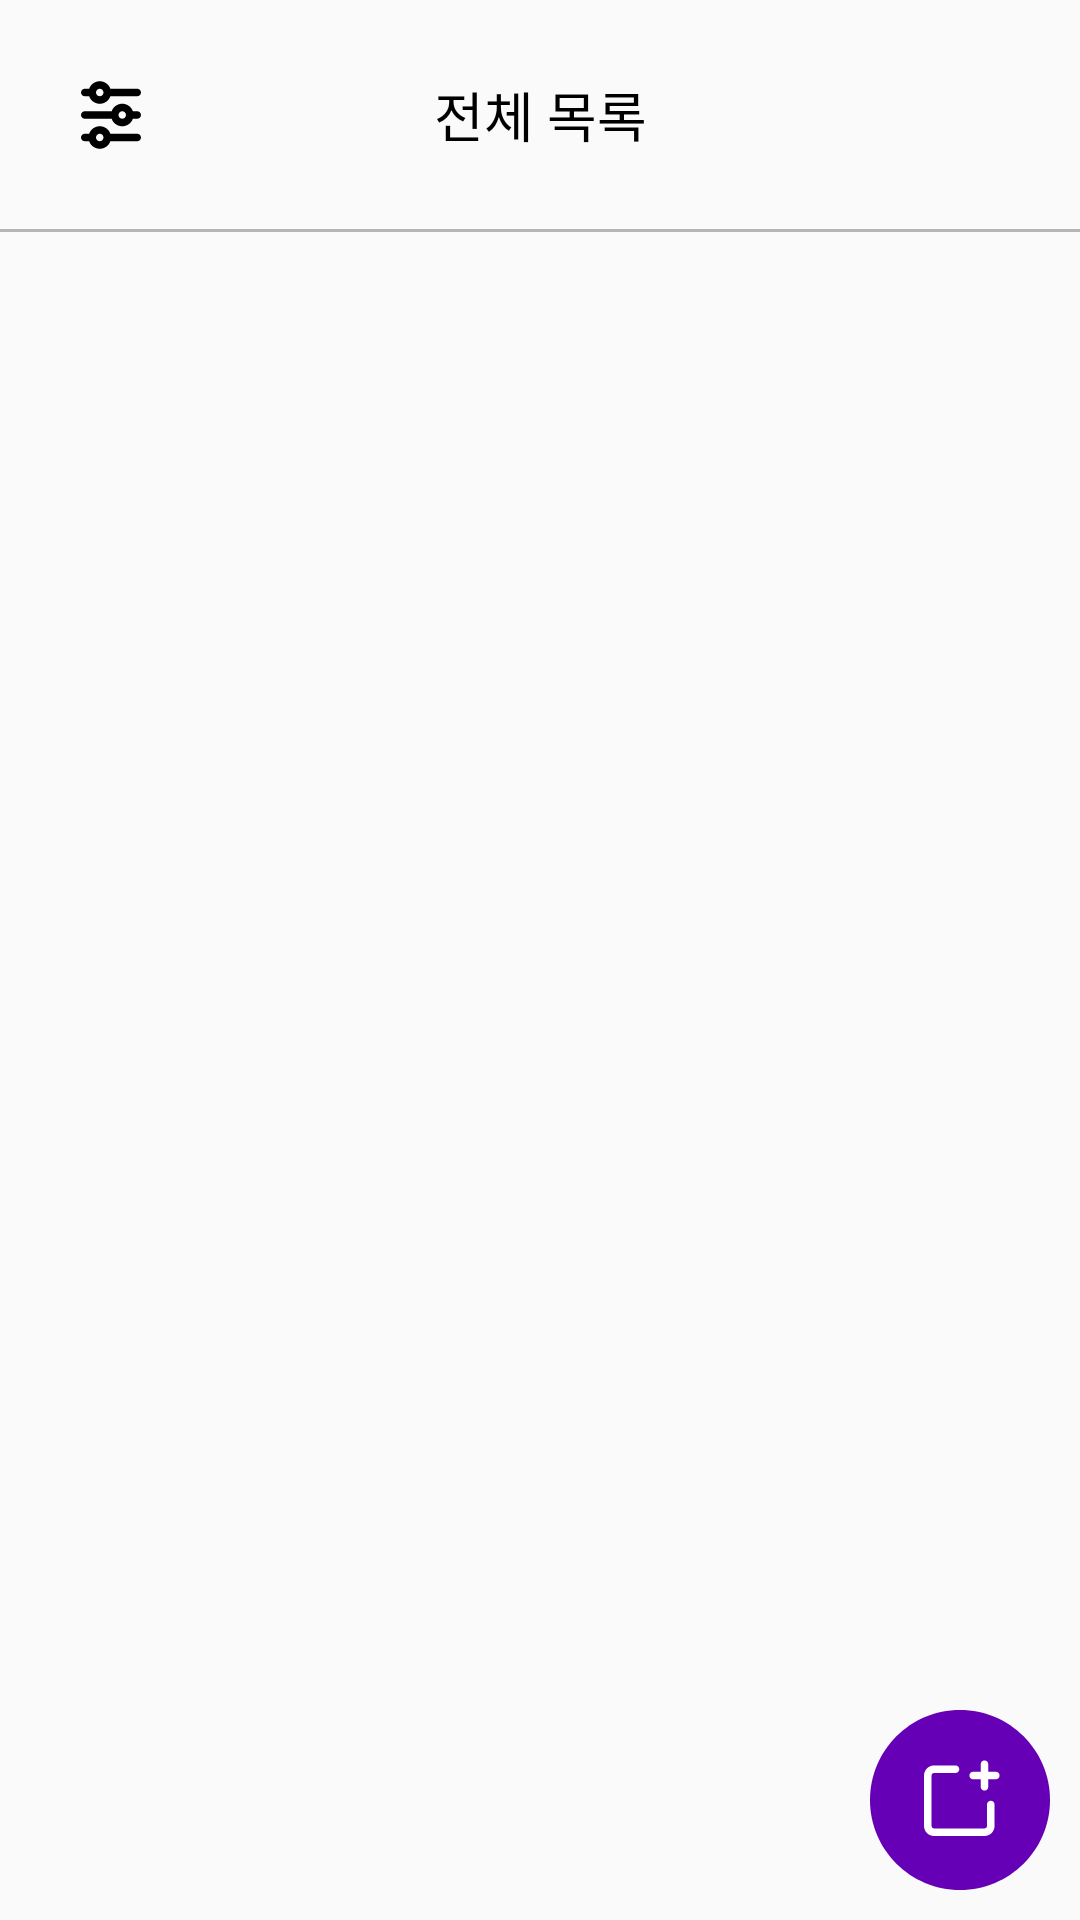

Named icons in this screenshot (1080*1920) and their centers, [x,y]:
filter: [111,115]
register post: [960,1800]
